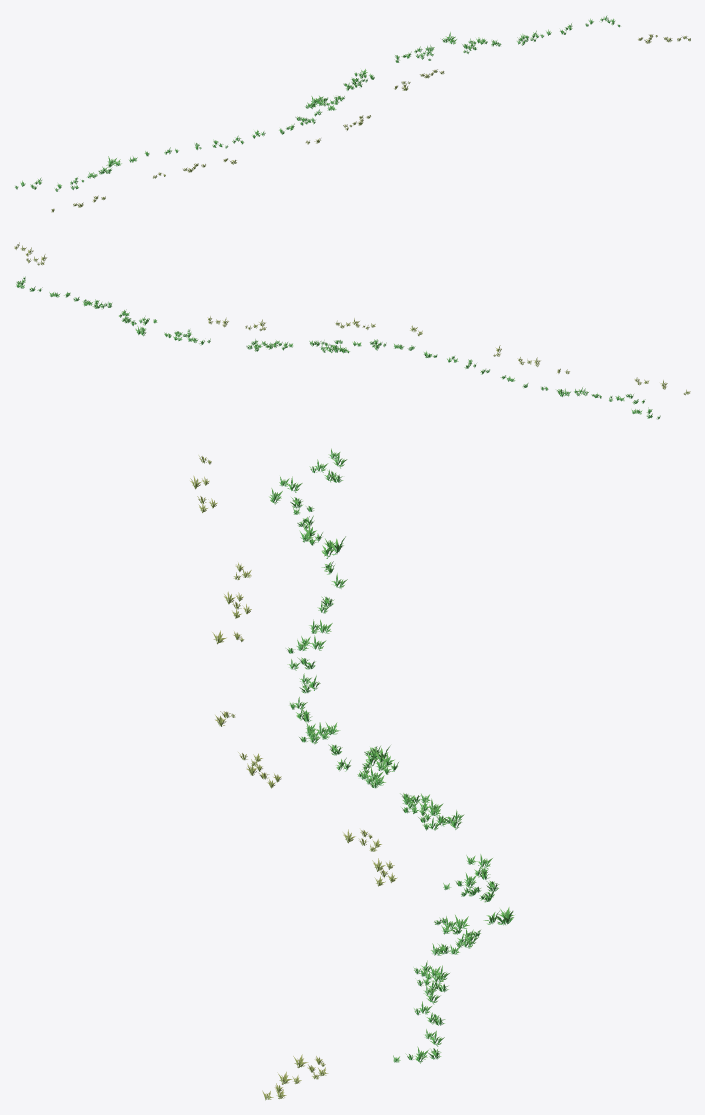
File: area_11_1.FBX
3 renders of one model, top to bottom at view 1: azimuth 30°, elevation 25°; view 2: azimuth 150°, elevation 25°; view 3: azimuth 270°, elevation 25°, orthographic. The views are drawn at different scales.
Parts seen in each view (by area): view 1: area_11_1; view 2: area_11_1; view 3: area_11_1.
Boxes of the visible parts, x1,y1,x2,y2 form: area_11_1: (15,15,690,212); area_11_1: (14,242,690,419); area_11_1: (190,448,514,1100).
Bounding box in the file's own units: 131 × 1.64 × 28.1.
